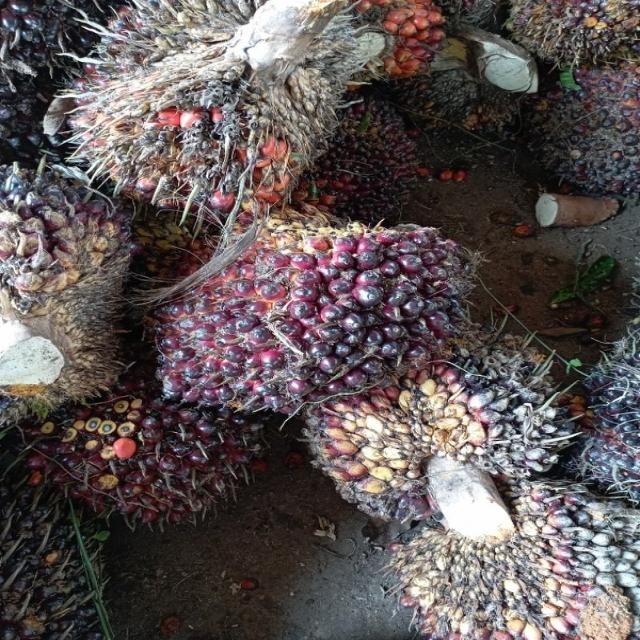fraksi 00: (306, 322, 576, 521), (541, 60, 640, 192)
fraksi 1: (164, 205, 478, 408)
